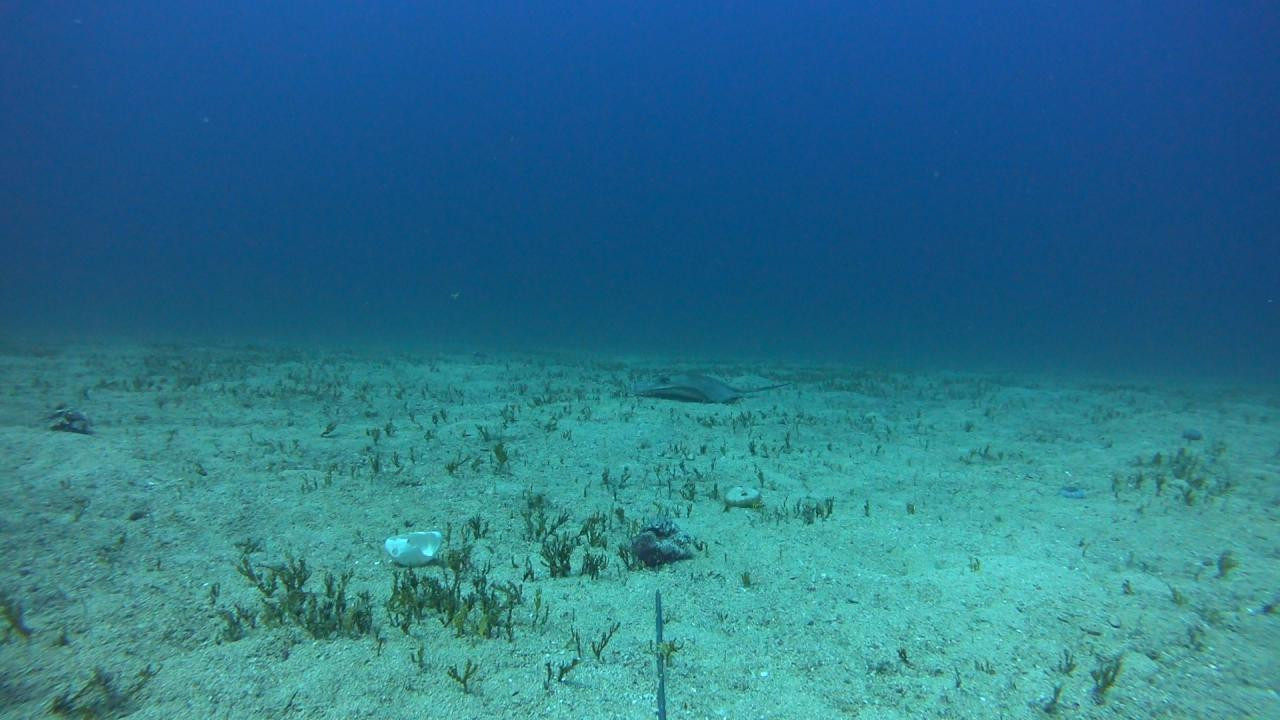dasyatis: (636, 370, 798, 402)
